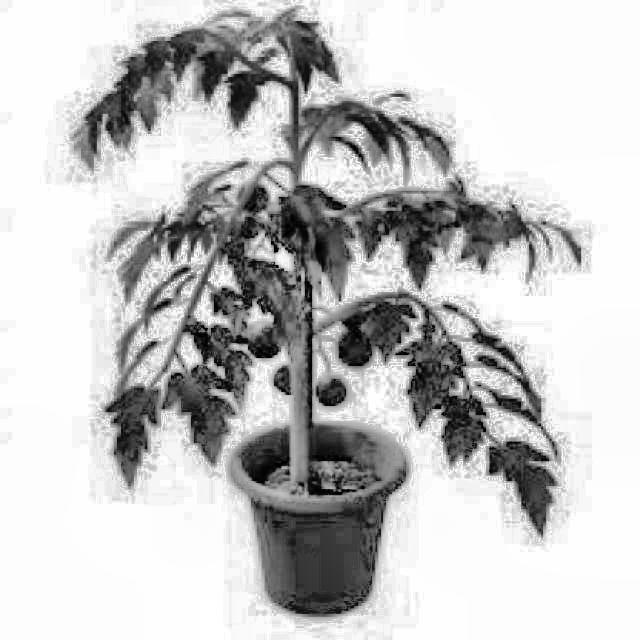plants: (69, 0, 592, 623)
